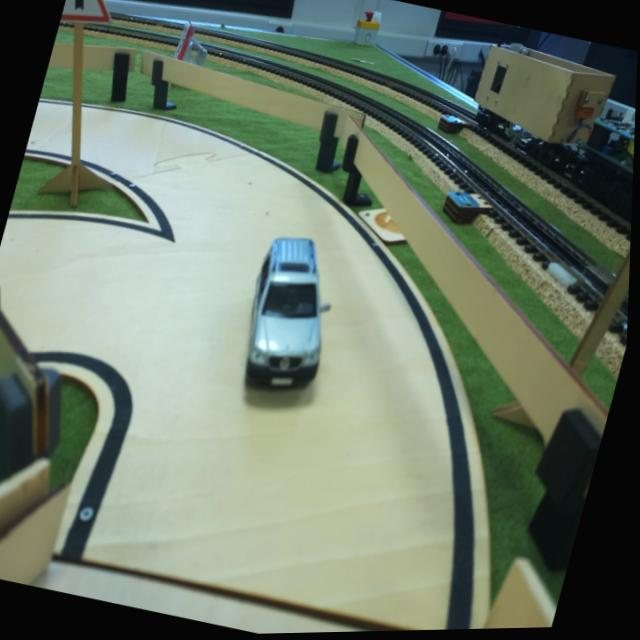obstacle_voiture: (220, 222, 364, 412)
panneau_intersection: (55, 0, 129, 48)
